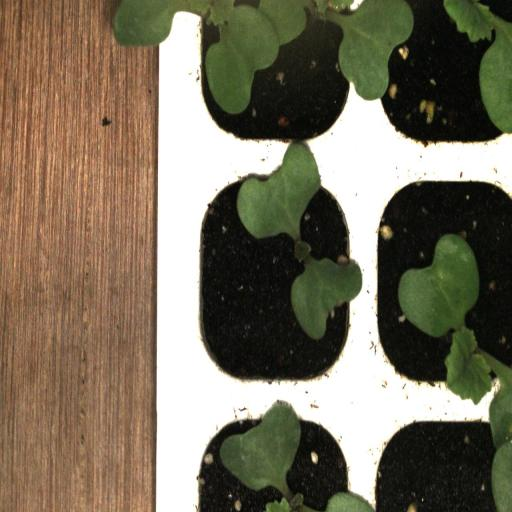seedling: (184, 154, 364, 400), (364, 155, 512, 404)
